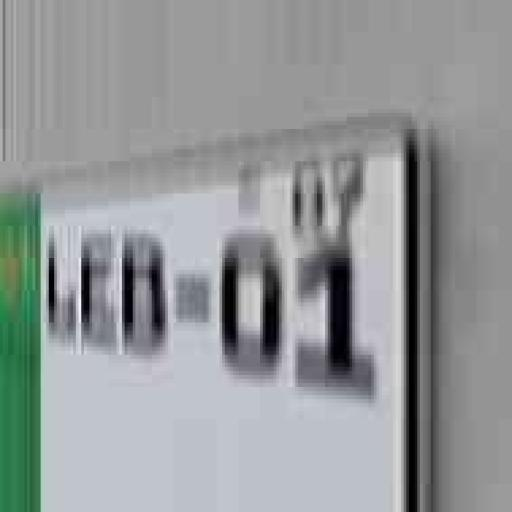0: (215, 238, 277, 370)
1: (288, 244, 381, 402)
B: (126, 225, 166, 364)
E: (77, 230, 118, 341)
L: (46, 237, 75, 342)
